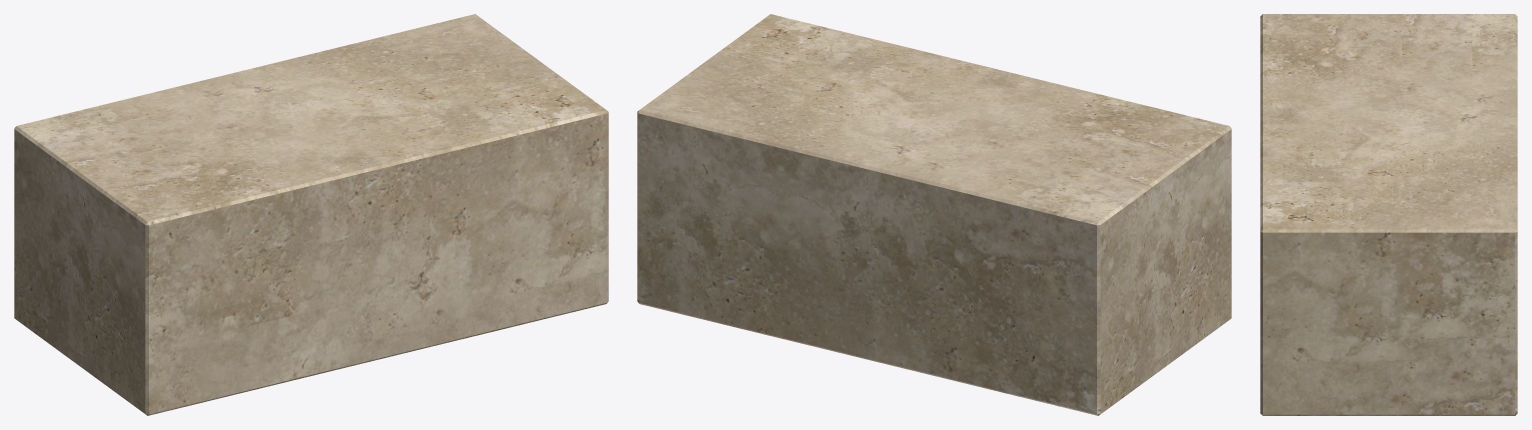
The model's file is long_brick.FBX.
3 renders of one model, left to right at view 1: azimuth 30°, elevation 25°; view 2: azimuth 150°, elevation 25°; view 3: azimuth 270°, elevation 25°, orthographic. The views are drawn at different scales.
Visible parts, largest first — view 1: Box203; view 2: Box203; view 3: Box203.
Part boxes in pixels (bbox=[...]): Box203: bbox=[14, 14, 608, 415]; Box203: bbox=[637, 14, 1231, 415]; Box203: bbox=[1260, 14, 1517, 415].
Bounding box in the file's own units: 200 × 80.01 × 100.
